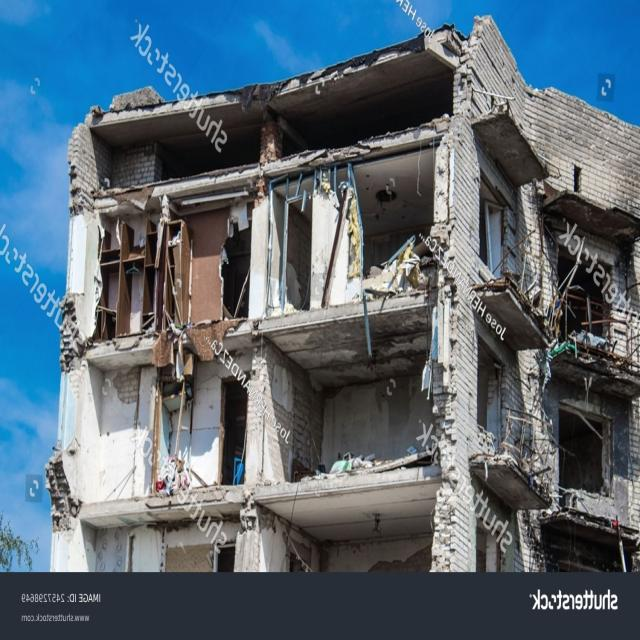Destroyed_building: (0, 0, 638, 567)
